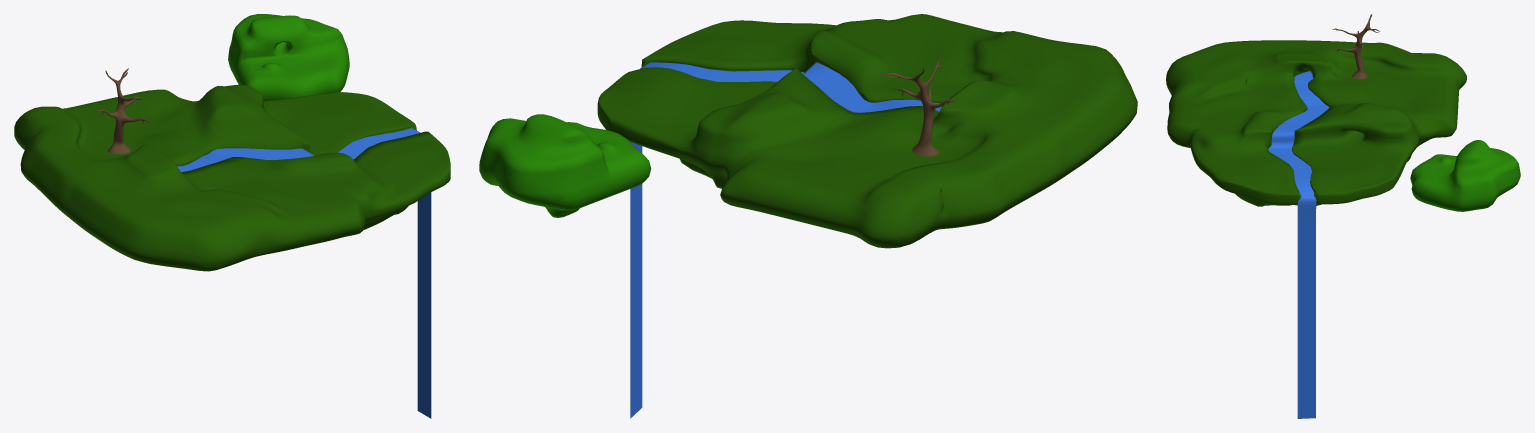
Rendered from island_test.glb.
The picture shows the model from 3 angles, left to right: view 1: azimuth 30°, elevation 25°; view 2: azimuth 150°, elevation 25°; view 3: azimuth 270°, elevation 25°; orthographic projection. The views are drawn at different scales.
Parts seen in each view (by area): view 1: Main Island, Second Island, River, Tree; view 2: Main Island, Second Island, River, Tree; view 3: Main Island, River, Second Island, Tree.
Part boxes in pixels (x1,y1,x2,y2): Main Island: (14,84,450,271); Second Island: (228,14,349,100); River: (177,128,431,418); Tree: (97,68,151,154); Main Island: (597,14,1137,248); Second Island: (479,114,651,217); River: (630,62,941,418); Tree: (882,58,955,156); Main Island: (1166,40,1466,206); River: (1268,71,1329,418); Second Island: (1410,140,1520,211); Tree: (1330,14,1380,79).
Size of the model in its own units: 286 by 273 by 294.
